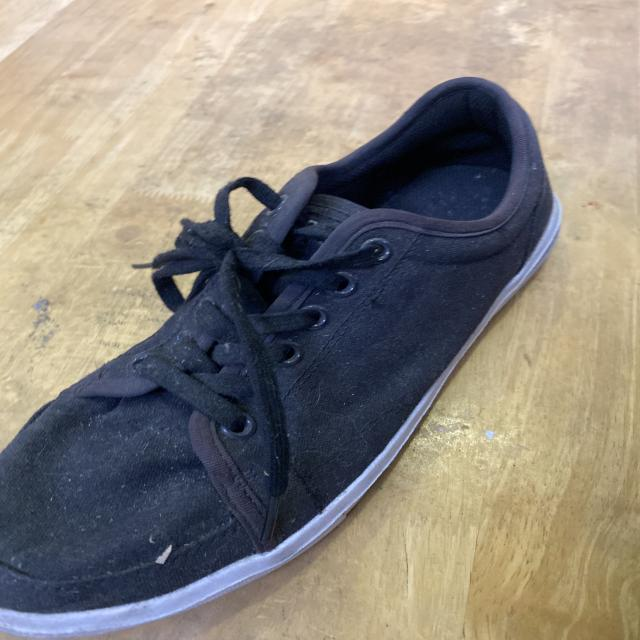broken-error: (352, 277, 393, 321)
